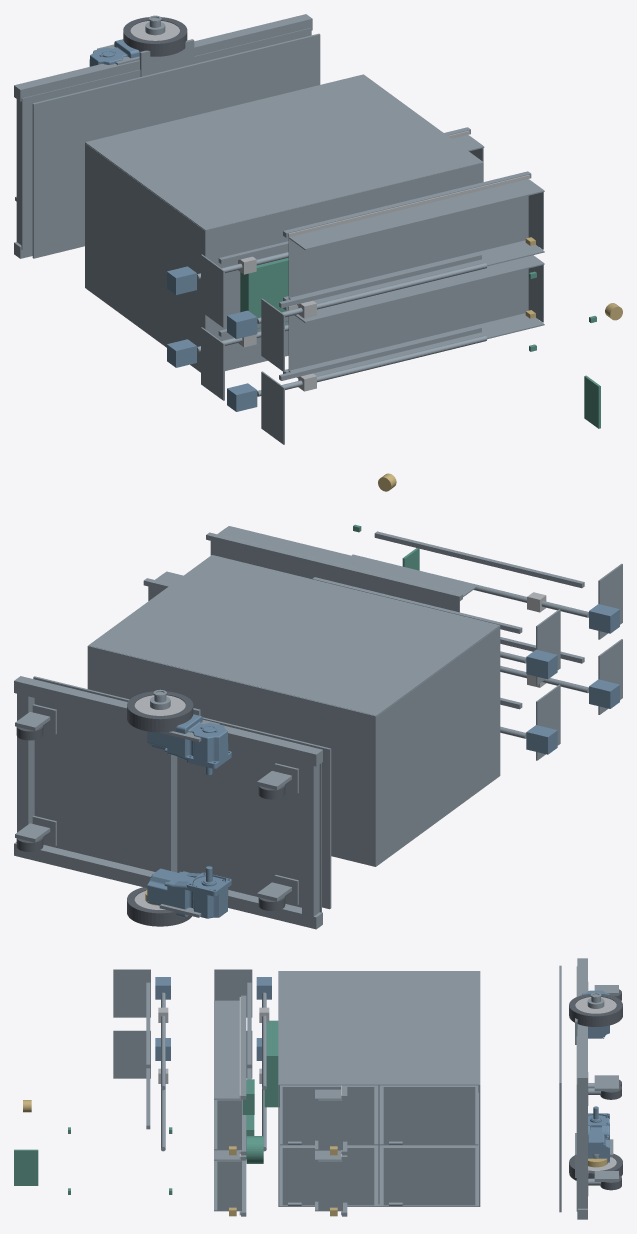
File: A15_VUE_ECLATEE_GLOBALE.glb
3 views of the same model, one above another, from view 1: azimuth 30°, elevation 25°; view 2: azimuth 150°, elevation 25°; view 3: azimuth 270°, elevation 25° (orthographic). The views are drawn at different scales.
Visible parts, largest first — view 1: K02_55, C04_6, K03_51, T01_91, T01_73, K01_49, T02_93, C03_5, C01_1, T02_75, T02_92, T02_74 (+22 smaller); view 2: K02_55, C03_5, K03_51, K04_50, C01_1, C01_0, M01_9, T01_91, T02_93, C02_2, M01_D_13, C04_6 (+16 smaller); view 3: K02_55, K07_60, K07_56, K07_62, K07_58, T02_93, K02_54, D04_118, D04_108, K05_52, T03_67, T03_76 (+21 smaller).
Boxes of the visible parts, <box> form: K02_55: <box>86,74,483,230</box>; C04_6: <box>32,33,320,258</box>; K03_51: <box>85,144,205,371</box>; T01_91: <box>288,196,528,298</box>; T01_73: <box>288,268,528,371</box>; K01_49: <box>205,162,483,370</box>; T02_93: <box>289,179,544,250</box>; C03_5: <box>21,28,311,249</box>; C01_1: <box>14,14,312,101</box>; T02_75: <box>289,255,544,322</box>; T02_92: <box>289,240,544,305</box>; T02_74: <box>289,313,544,378</box>; K02_55: <box>88,555,499,716</box>; C03_5: <box>34,698,321,912</box>; K03_51: <box>376,626,499,865</box>; K04_50: <box>87,645,376,866</box>; C01_1: <box>14,676,322,766</box>; C01_0: <box>14,842,322,929</box>; M01_9: <box>147,866,231,918</box>; T01_91: <box>211,541,459,612</box>; T02_93: <box>218,526,476,596</box>; C02_2: <box>302,761,319,917</box>; M01_D_13: <box>147,714,231,775</box>; C04_6: <box>33,676,331,909</box>; K02_55: <box>279,971,479,1085</box>; K07_60: <box>383,1086,475,1144</box>; K07_56: <box>383,1147,475,1205</box>; K07_62: <box>282,1086,374,1144</box>; K07_58: <box>282,1147,374,1205</box>; T02_93: <box>214,1000,240,1099</box>; K02_54: <box>279,1092,478,1206</box>; D04_118: <box>113,969,150,1017</box>; D04_108: <box>113,1030,150,1078</box>; K05_52: <box>280,1085,478,1145</box>; T03_67: <box>318,1160,342,1210</box>; T03_76: <box>217,1160,241,1210</box>.
Size of the model in its own units: 1262 by 768 by 2260.
